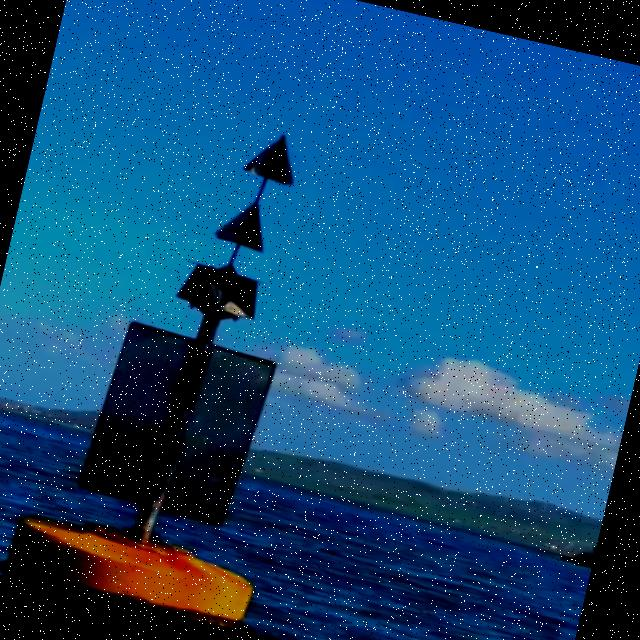marque: (4, 93, 361, 633)
